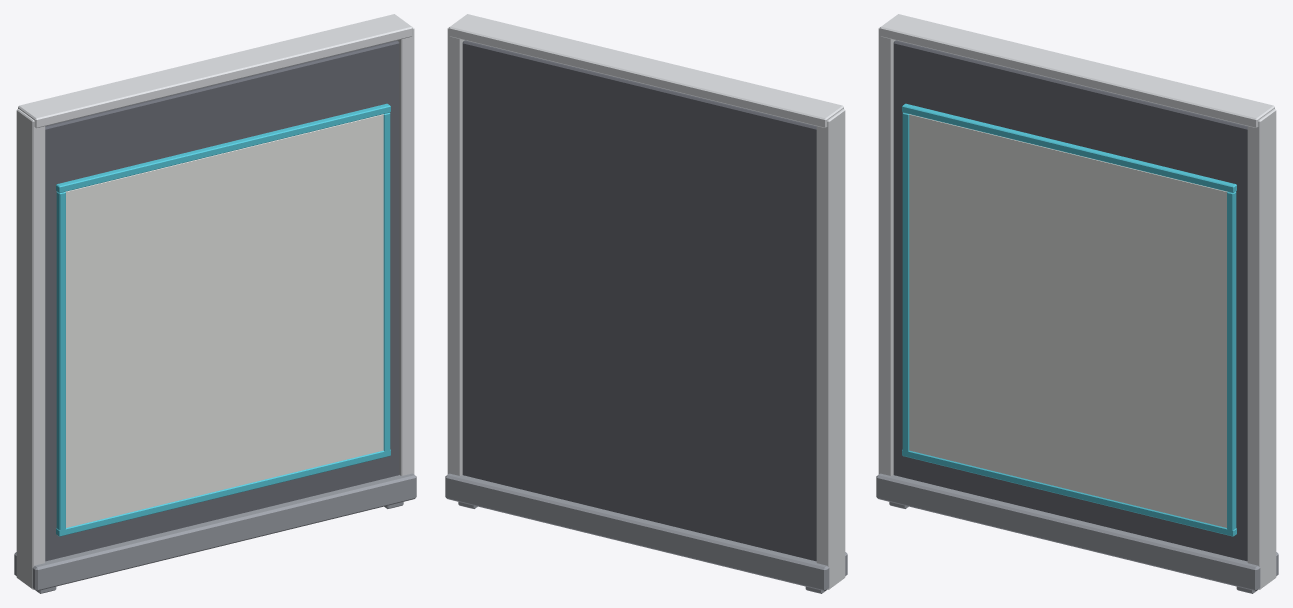
The model's file is laser-tag-arena-and-activity-centre-arena-mirror-panel-134a28ad__34473.glb.
3 renders of one model, left to right at view 1: azimuth 30°, elevation 25°; view 2: azimuth 150°, elevation 25°; view 3: azimuth 330°, elevation 25°, orthographic.
Visible parts, largest first — view 1: arena-mirror-panel-module; view 2: arena-mirror-panel-module; view 3: arena-mirror-panel-module.
Part boxes in pixels (x1=…): arena-mirror-panel-module: x1=14, y1=14, x2=416, y2=593; arena-mirror-panel-module: x1=445, y1=14, x2=847, y2=593; arena-mirror-panel-module: x1=876, y1=14, x2=1278, y2=593.
Bounding box in the file's own units: 2 × 2.4 × 0.21.
